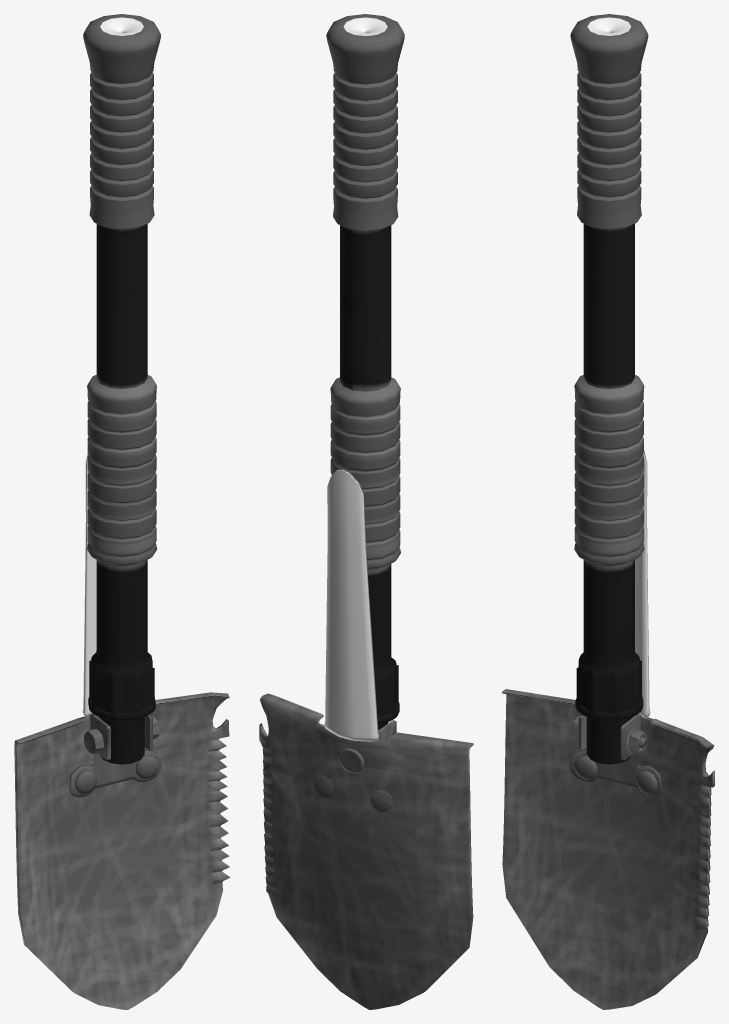
The model's file is MilitaryShovel.fbx.
3 views of the same model, side by side, from view 1: azimuth 30°, elevation 25°; view 2: azimuth 150°, elevation 25°; view 3: azimuth 330°, elevation 25° (orthographic).
Visible parts, largest first — view 1: militaryShovel_Handle_MID; view 2: militaryShovel_Handle_MID; view 3: militaryShovel_Handle_MID.
Part boxes in pixels (x1,y1,x2,y2): militaryShovel_Handle_MID: [14, 14, 230, 1009]; militaryShovel_Handle_MID: [259, 14, 473, 1009]; militaryShovel_Handle_MID: [502, 14, 714, 1009].
Size of the model in its own units: 21.04 by 93.99 by 7.46.
Materials: 1 (1 with a texture image).
